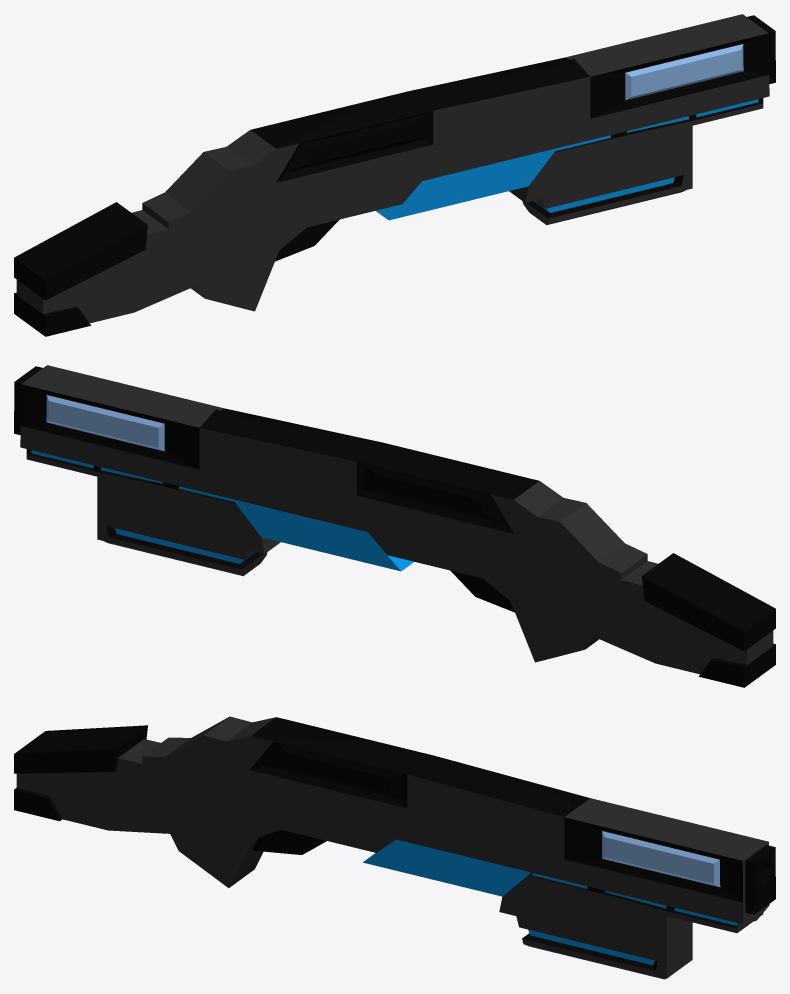
File: shotgun.fbx
The picture shows the model from 3 angles, top to bottom: view 1: azimuth 30°, elevation 25°; view 2: azimuth 150°, elevation 25°; view 3: azimuth 330°, elevation 25°; orthographic projection.
Visible parts, largest first — view 1: Cube; view 2: Cube; view 3: Cube.
Part boxes in pixels (x1,y1,x2,y2): Cube: (14,14,775,336); Cube: (14,365,775,687); Cube: (14,716,775,979).
Bounding box in the file's own units: 816 × 174 × 60.6.
